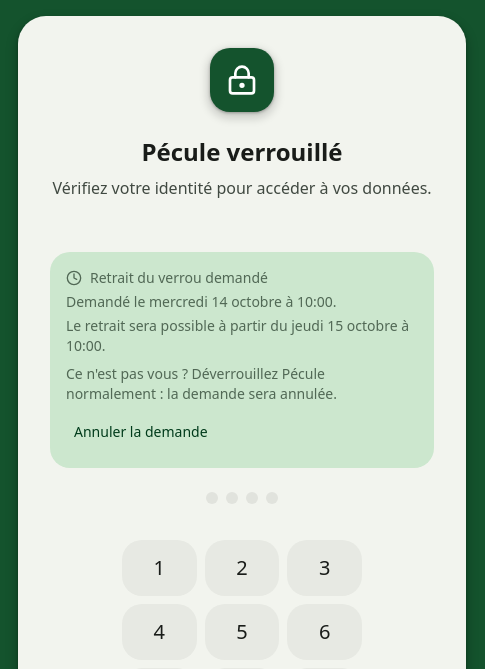
Test: AppLockScreen : « Code oublié » › « Annuler la demande » : la demande part, le lien « Code oublié » revient et reçoit le focus
Click the button "Annuler la demande". click: x=141, y=432
box: [62,412,220,452]
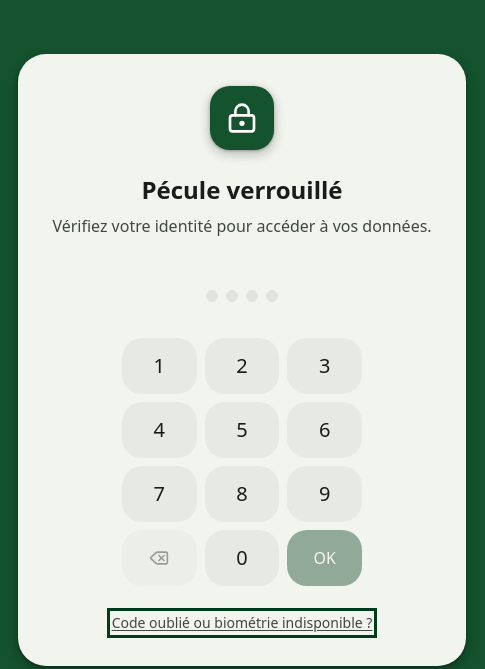
expect the heading "Retrait du verrou demandé" is gone: met
